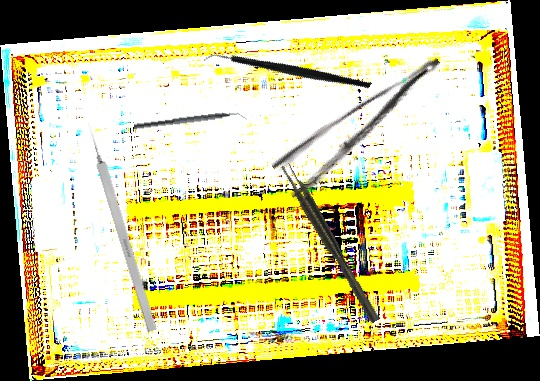Chopper: (202, 2, 372, 144), (133, 108, 248, 137)
Dressing Forceps: (269, 54, 460, 201)
Hook Surgical: (83, 121, 158, 333)
Tissue Forceps: (279, 160, 380, 327)
